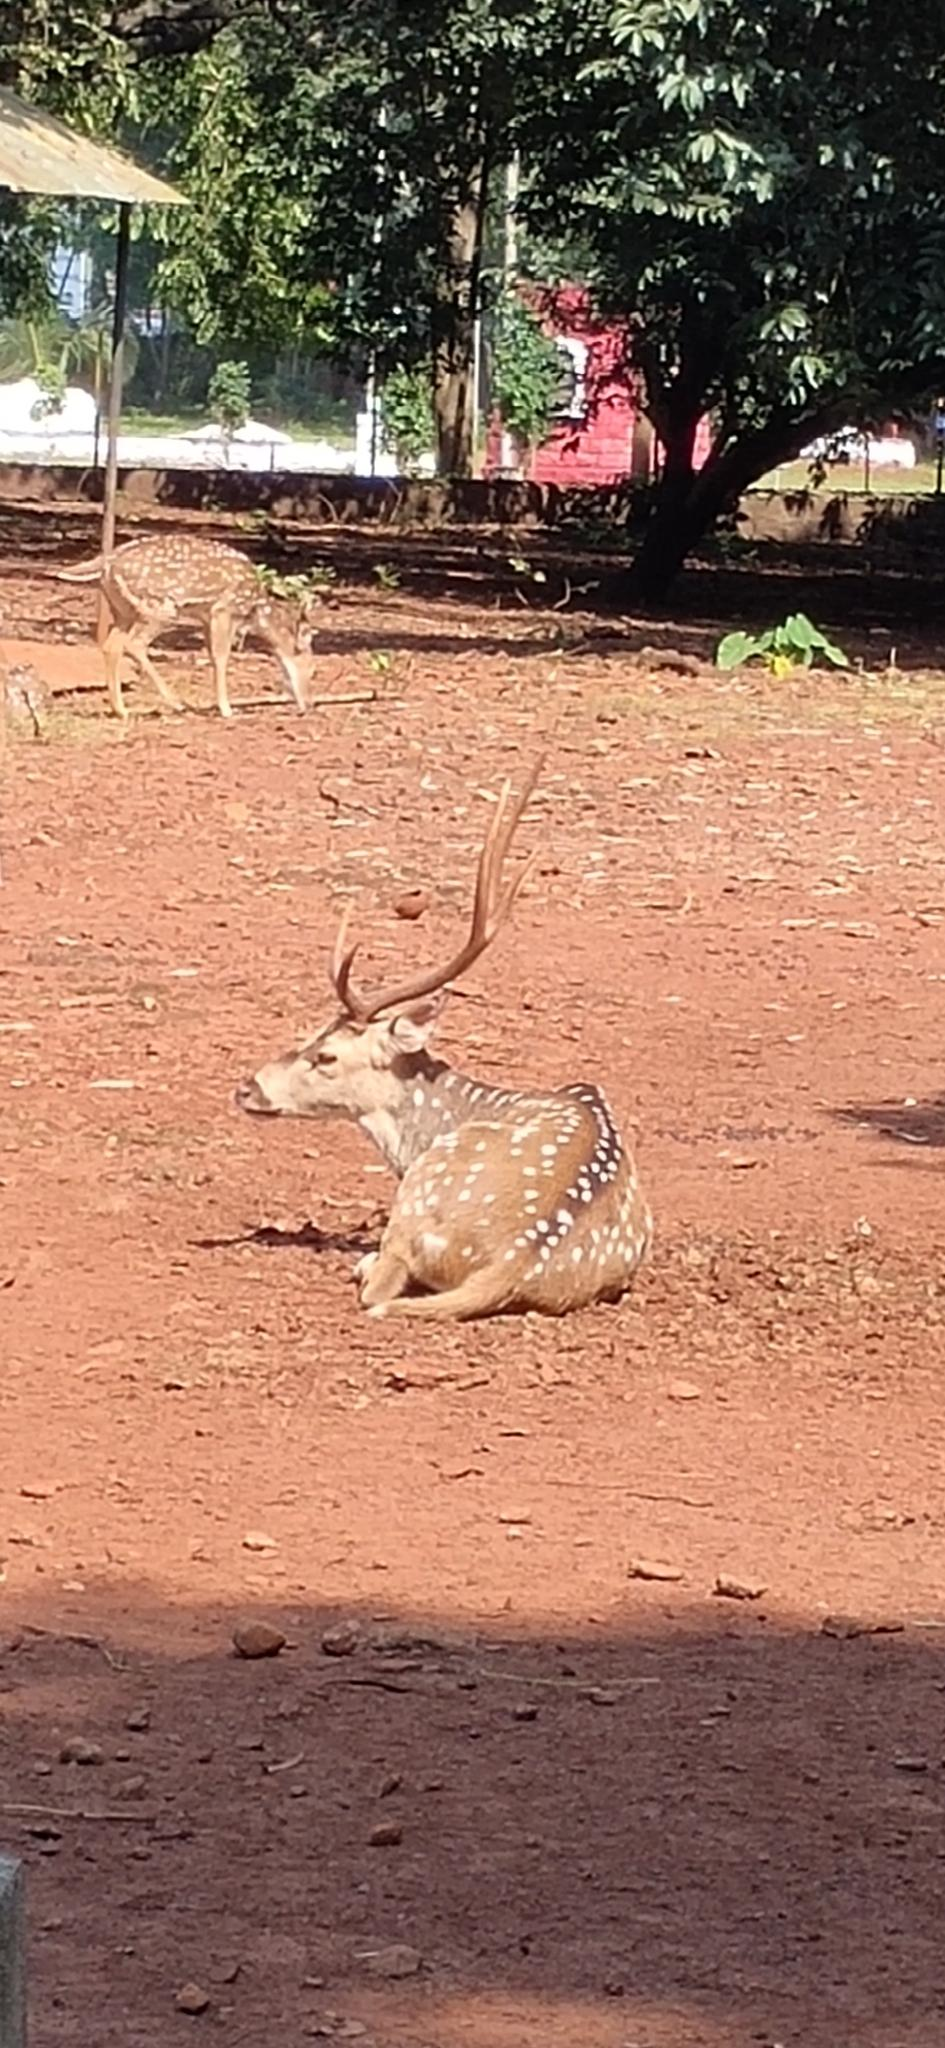Deer: (238, 771, 651, 1320), (59, 537, 315, 720)
